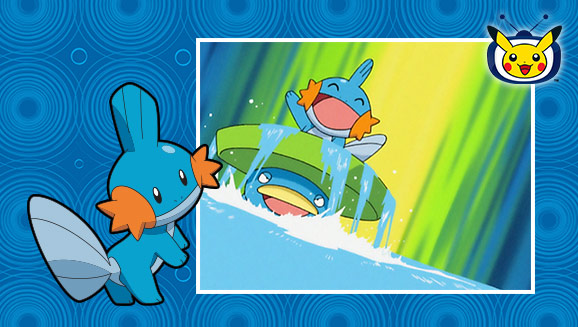mudkip: (22, 83, 222, 306), (279, 53, 395, 161)
